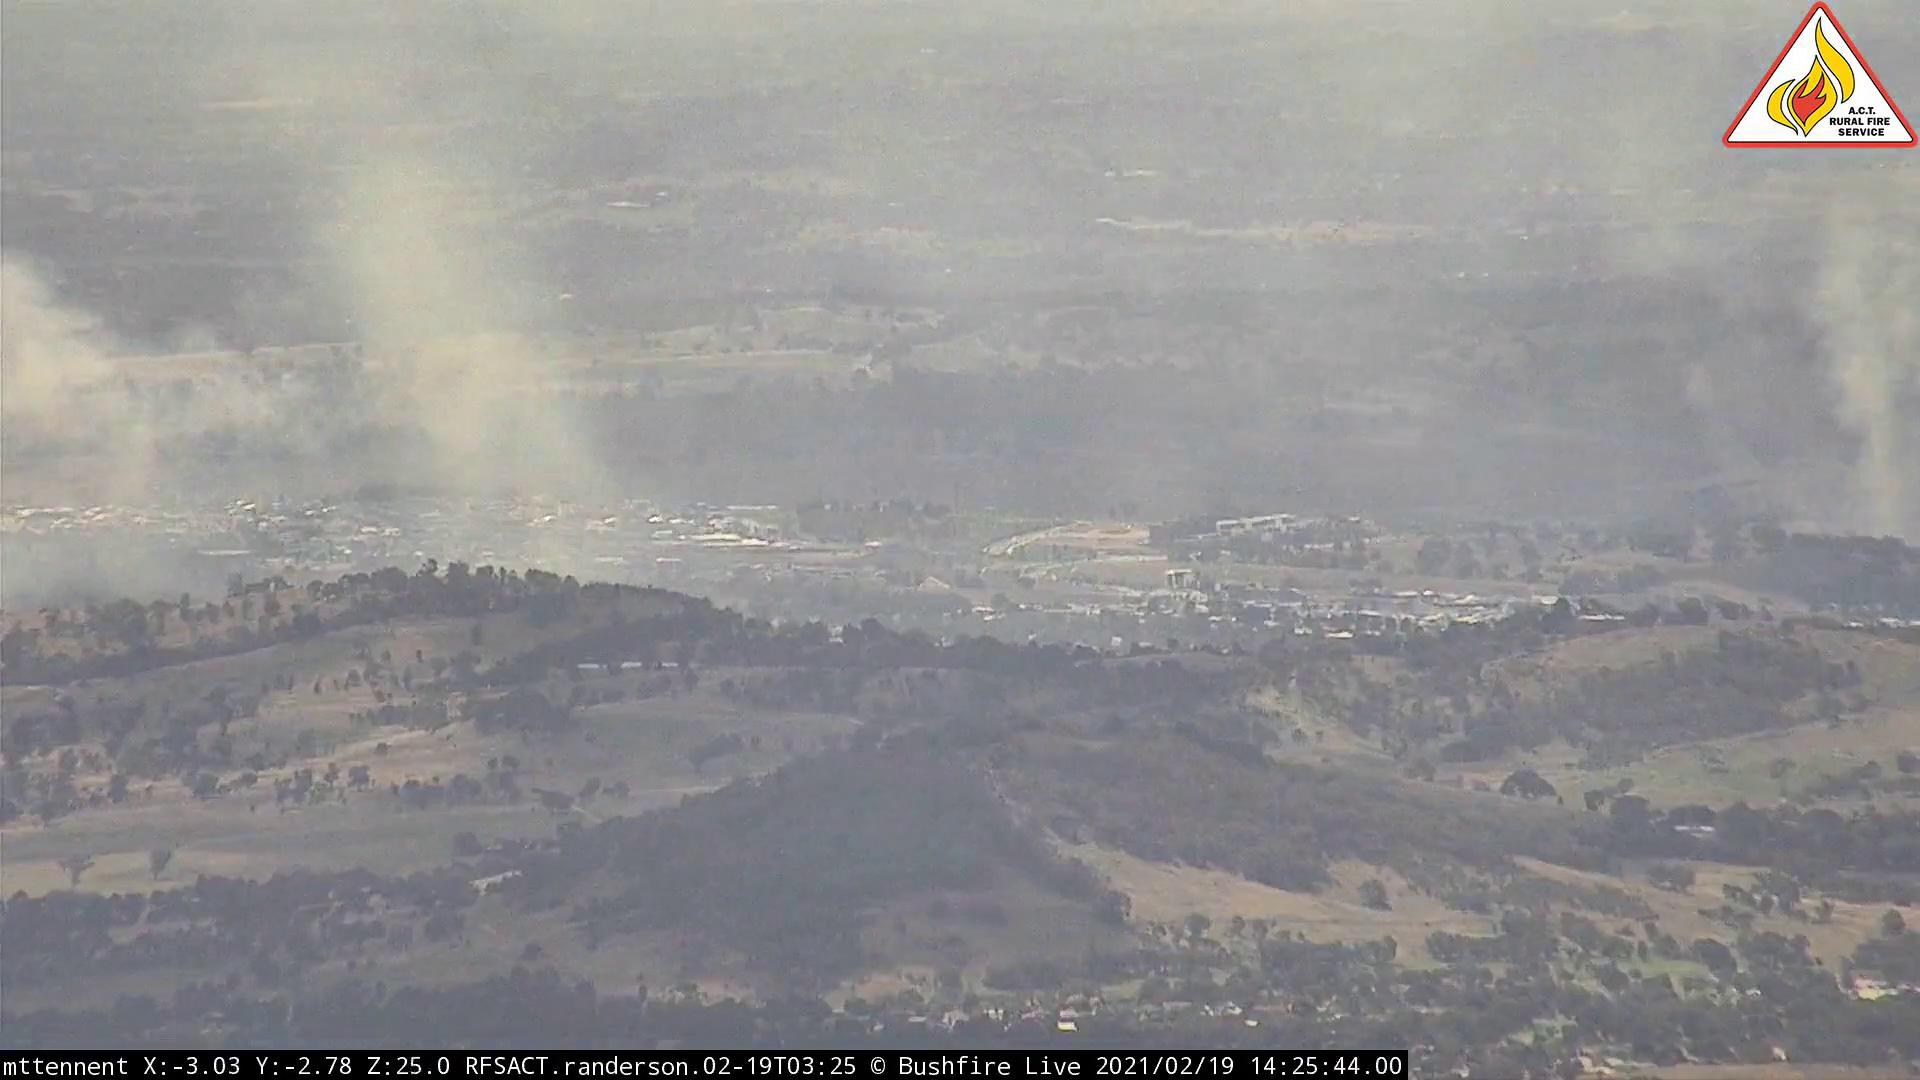Smoke: (3, 73, 688, 616), (1706, 196, 1917, 559)
